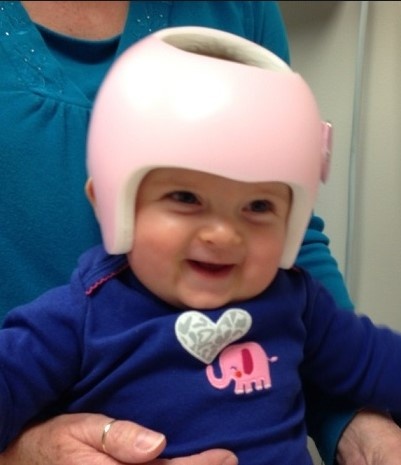face_no_mask: (123, 115, 286, 310)
